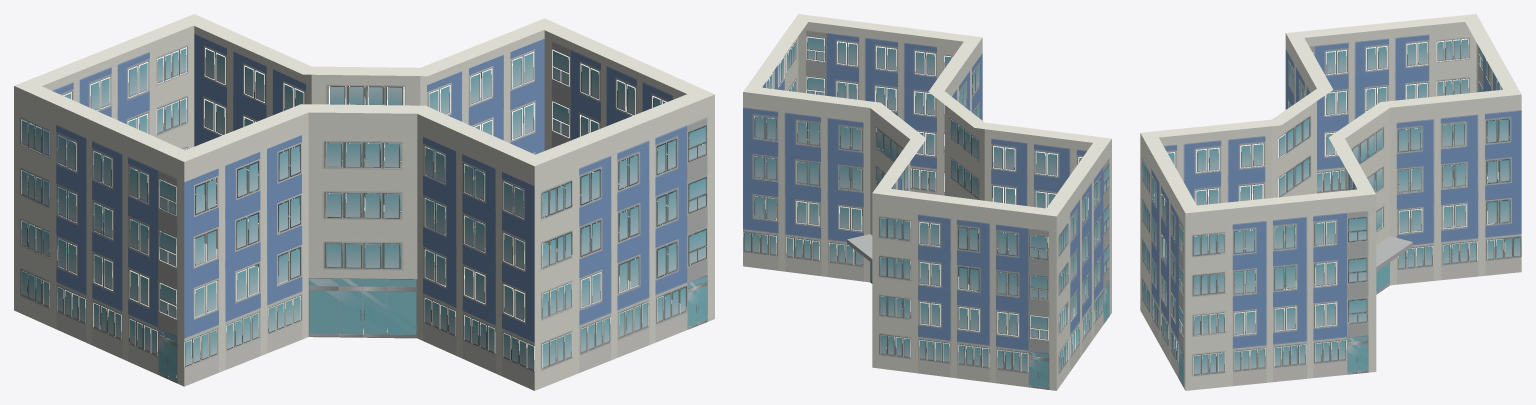
File: building_namjae.fbx
The picture shows the model from 3 angles, left to right: view 1: azimuth 30°, elevation 25°; view 2: azimuth 150°, elevation 25°; view 3: azimuth 270°, elevation 25°; orthographic projection. The views are drawn at different scales.
Parts seen in each view (by area): view 1: building_namjae; view 2: building_namjae; view 3: building_namjae.
Part boxes in pixels (x1,y1,x2,y2): building_namjae: (14,14,714,390); building_namjae: (743,14,1111,390); building_namjae: (1140,14,1521,390).
Bounding box in the file's own units: 3.06 × 1.27 × 2.48.
Materials: 1 (1 with a texture image).
